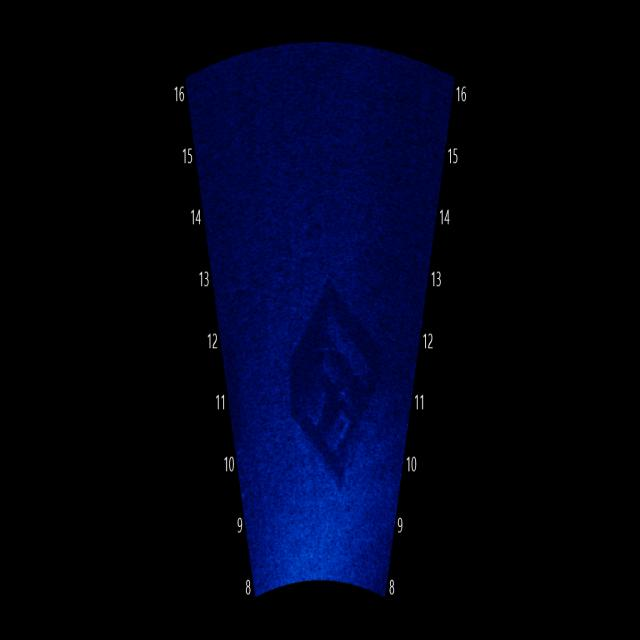square: (280, 259, 396, 516)
